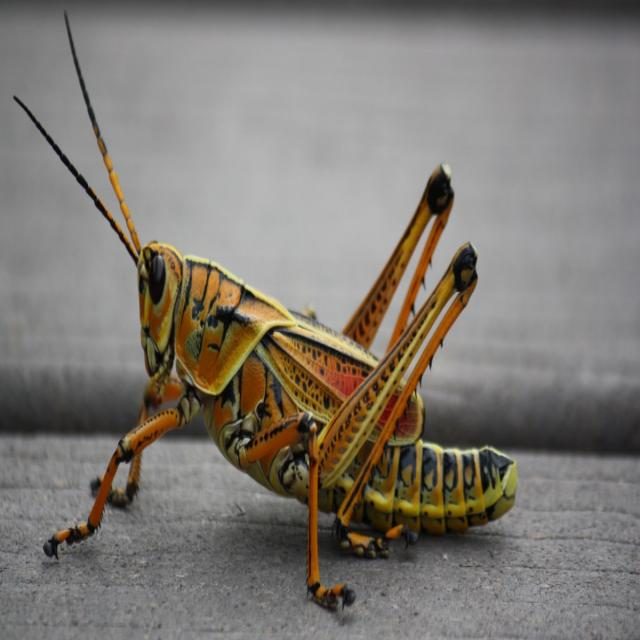ZhaMeng: (54, 80, 538, 599)
